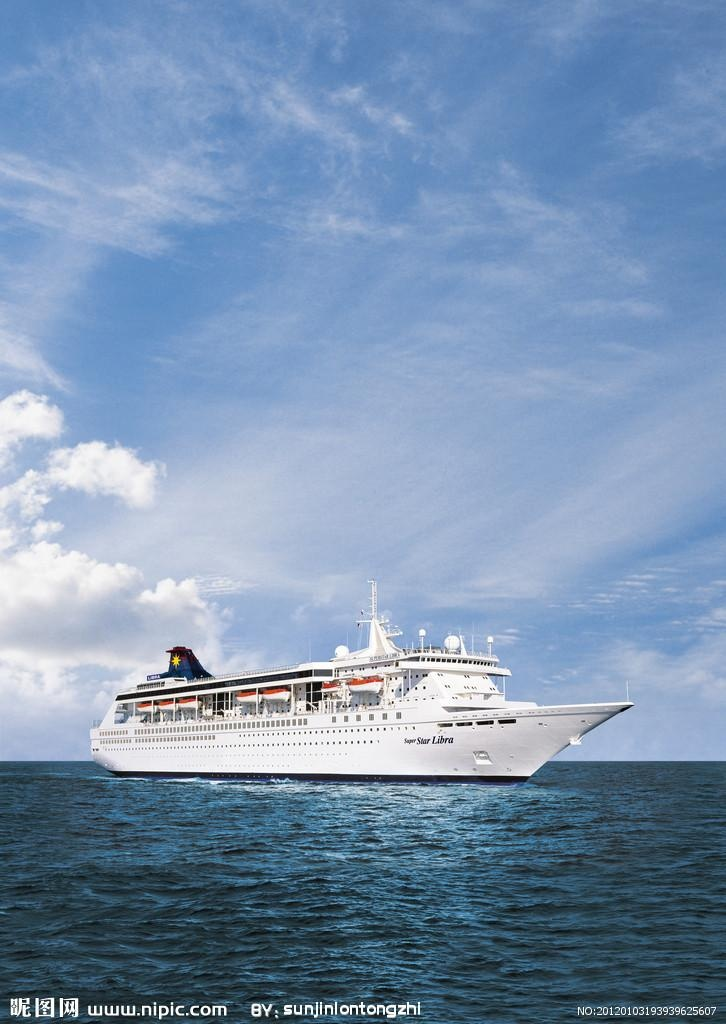youlun: (83, 599, 637, 779)
